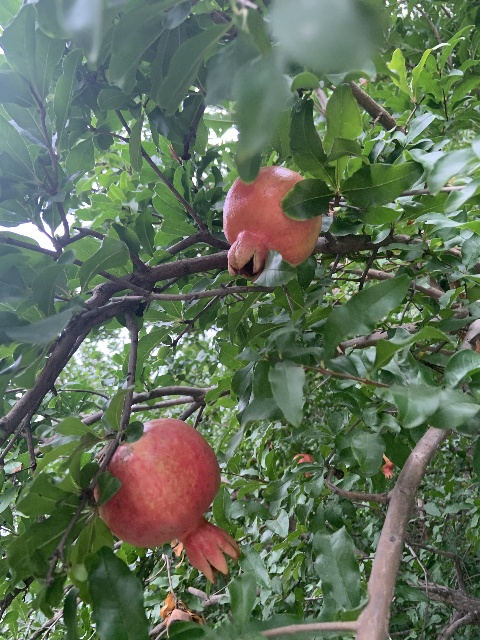ripe: (93, 417, 240, 584), (222, 166, 321, 281), (292, 453, 315, 477), (382, 453, 394, 479)
